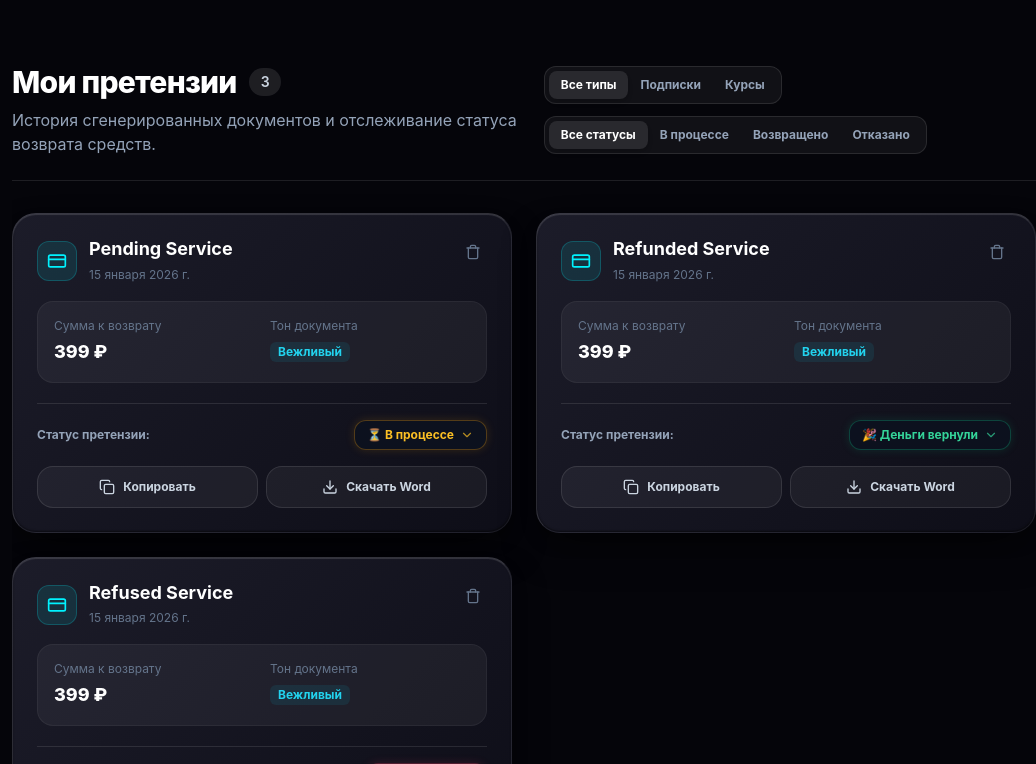
it: ClaimHistoryList › filters by status when clicking status filter buttons
Click "В процессе"
Step 1. Click the button "В процессе" → (694, 135), box x1=648 y1=121 x2=741 y2=149
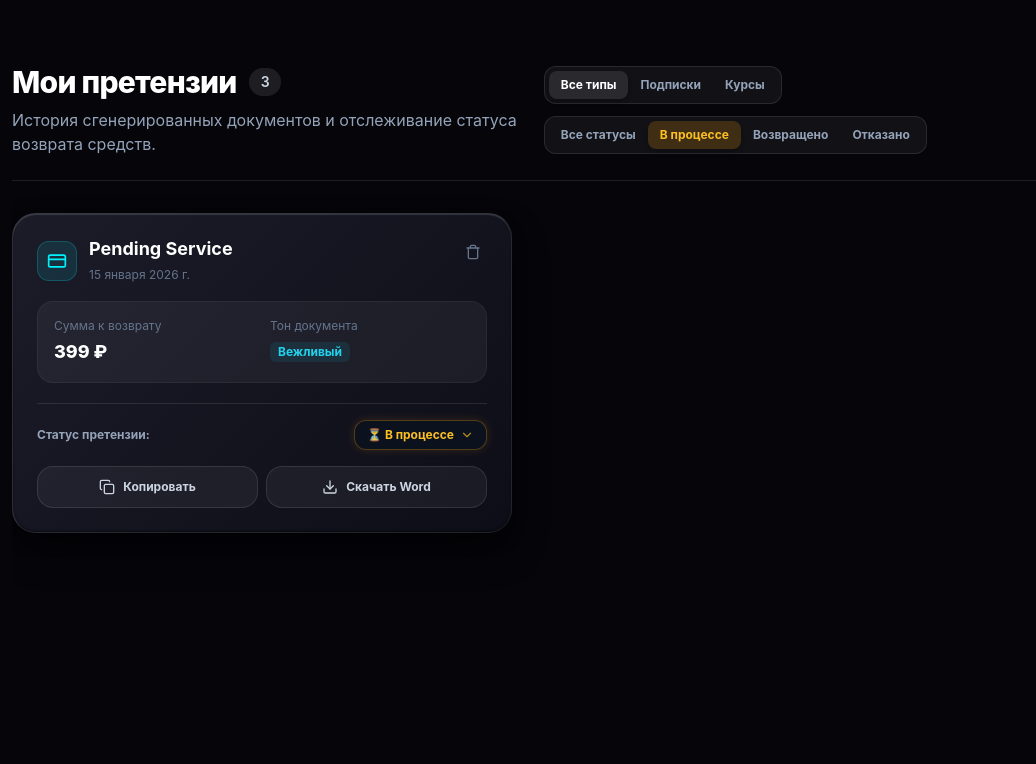
Expected: the heading "Pending Service" is shown, x1=89 y1=238 x2=233 y2=260
Expected: the heading "Refunded Service" is gone
Click "Возвращено"
Step 2. Click the button "Возвращено" → (791, 135), box x1=741 y1=121 x2=840 y2=149
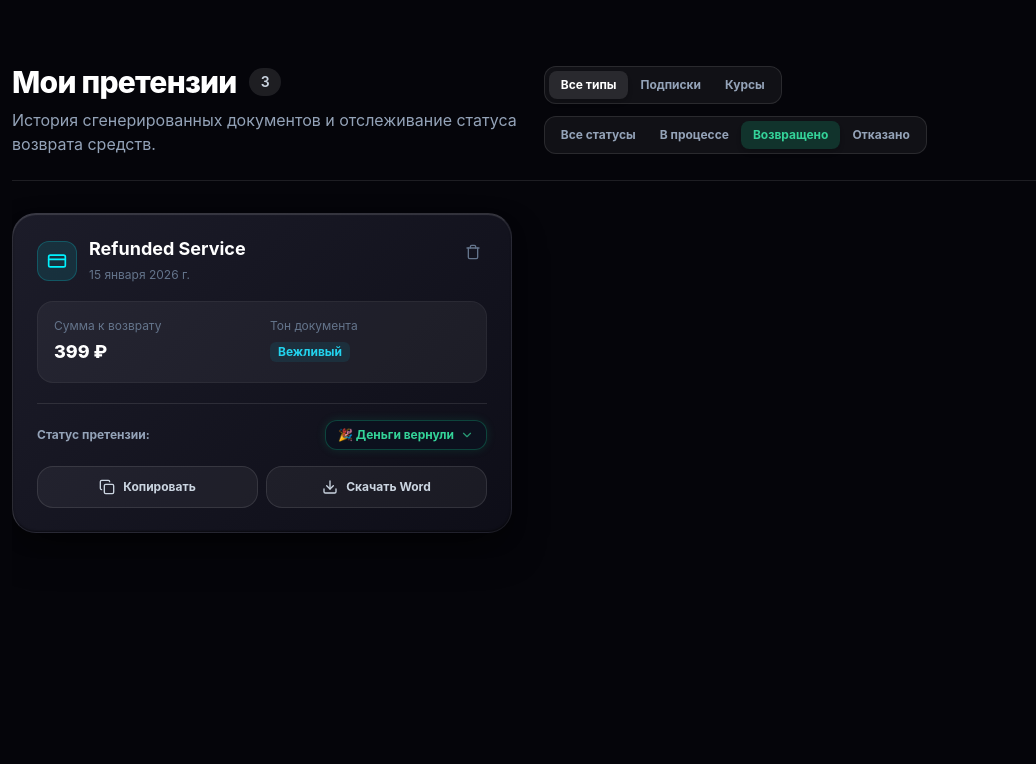
Expected: the heading "Refunded Service" is shown, x1=89 y1=238 x2=246 y2=260
Expected: the heading "Pending Service" is gone
Click "Отказано"
Step 3. Click the button "Отказано" → (881, 135), box x1=840 y1=121 x2=922 y2=149
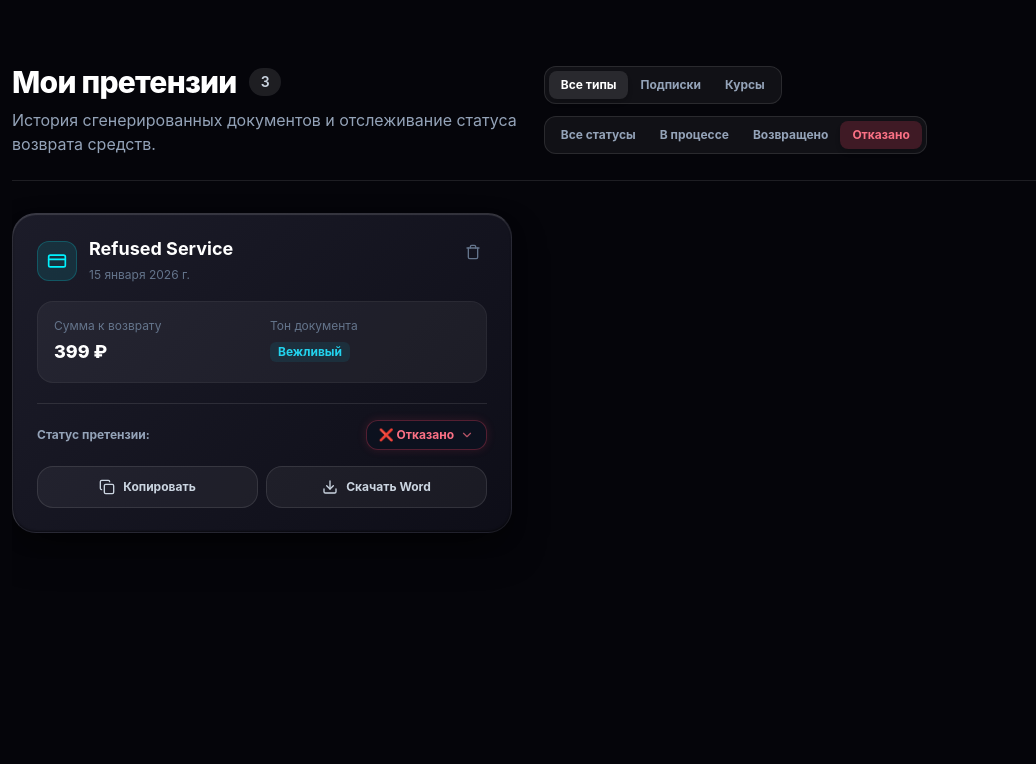
Expected: the heading "Refused Service" is shown, x1=89 y1=238 x2=233 y2=260
Expected: the heading "Refunded Service" is gone
